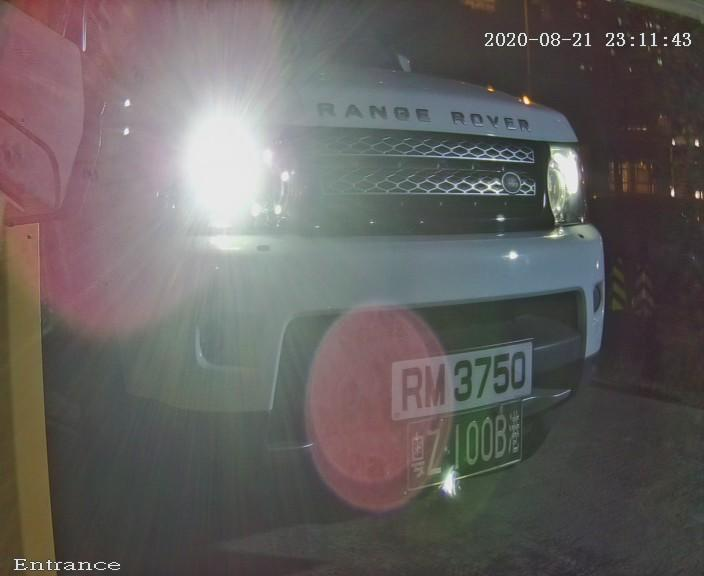Car: (13, 6, 670, 569)
License Plate: (359, 321, 562, 444)
